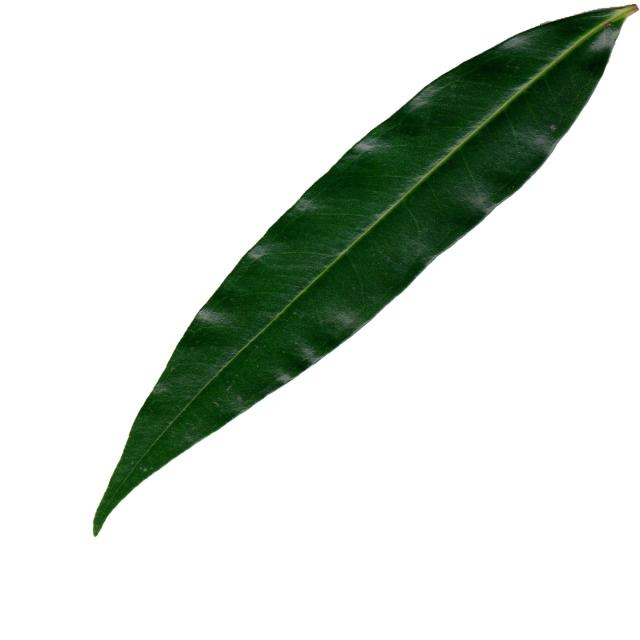Medicinal-Rose Apple: (91, 0, 637, 548)
